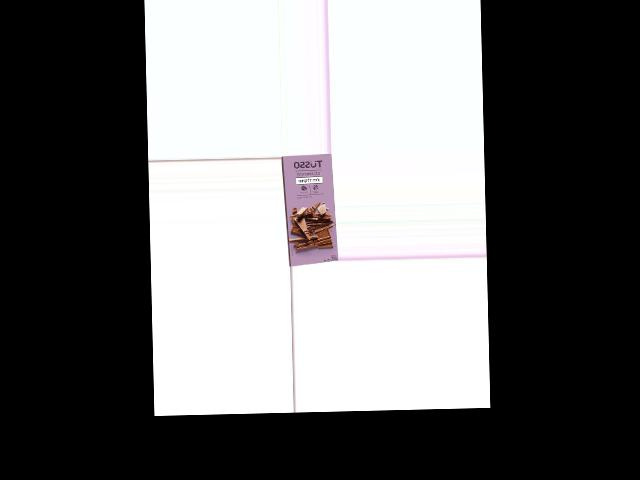chocolate: (284, 156, 335, 266)
